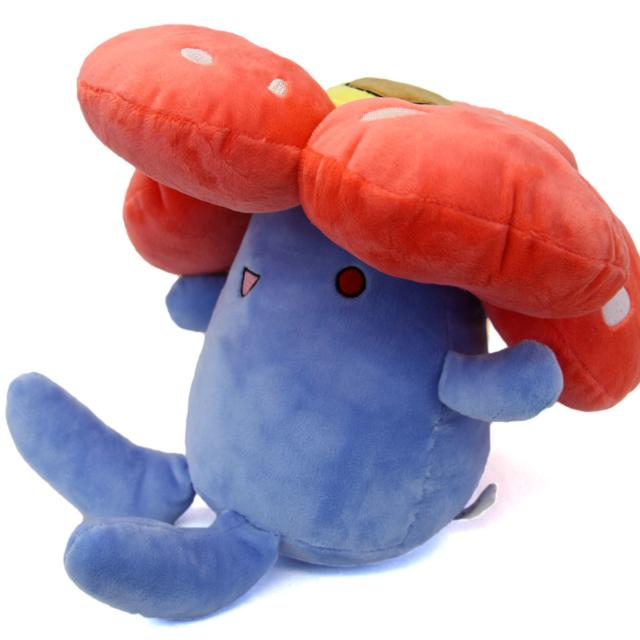Vileplume: (133, 20, 542, 568)
